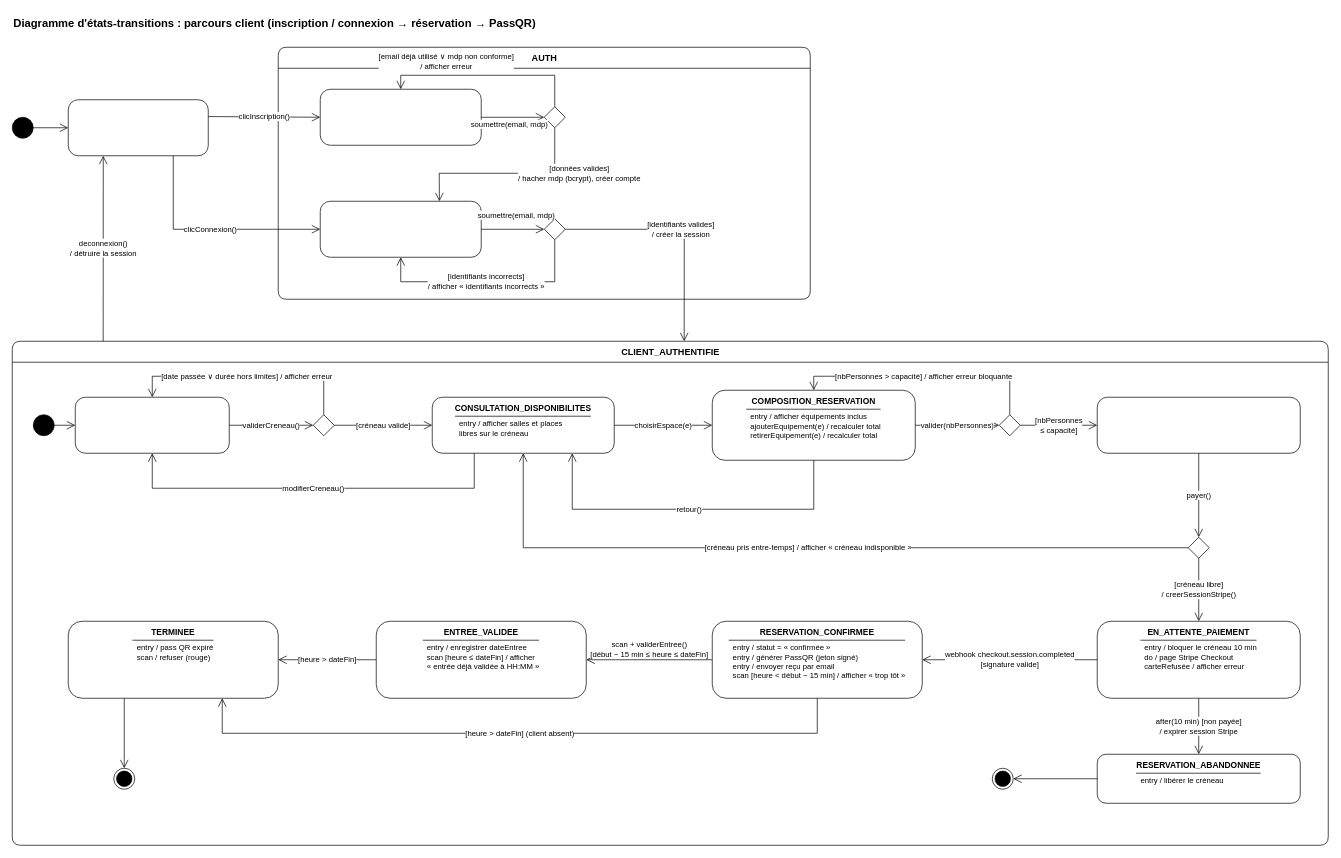
The diagram is 1341 pixels wide and 858 high, and some of its shapes have lost their labels. Each missing label, with the centre of its shape:
CHOIX_CRENEAU do / saisir date, heure de début, durée: point 152,425
RECAPITULATIF entry / afficher salle × durée + équipements = total (DT): point 1198,425
SAISIE_CONNEXION do / saisir email, mot de passe: point 400,229
SAISIE_INSCRIPTION do / saisir email, mot de passe: point 400,117
VISITEUR entry / afficher la page d'accueil: point 138,127
